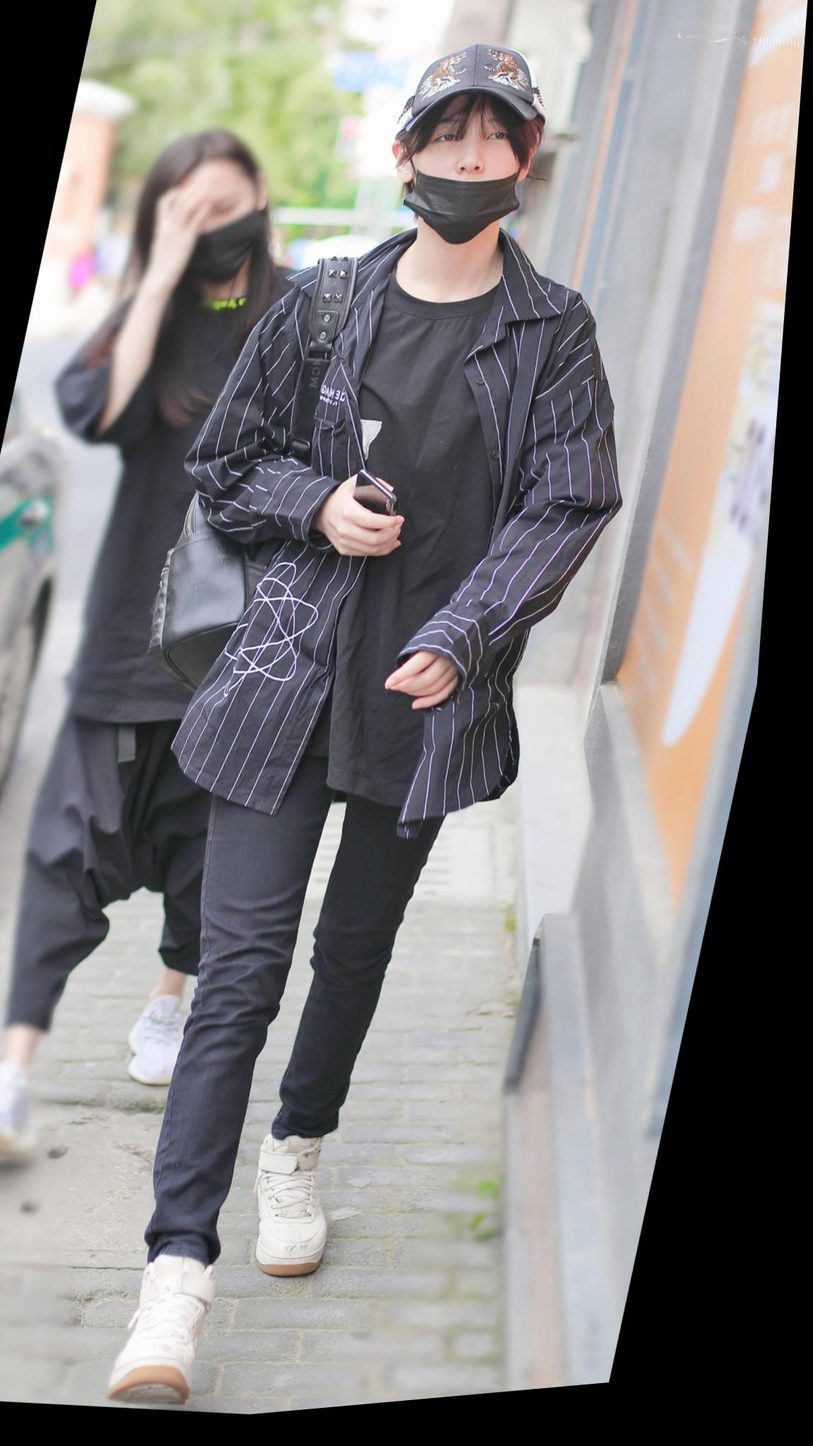OK: (168, 174, 271, 299)
WRONG: (402, 102, 536, 262)
